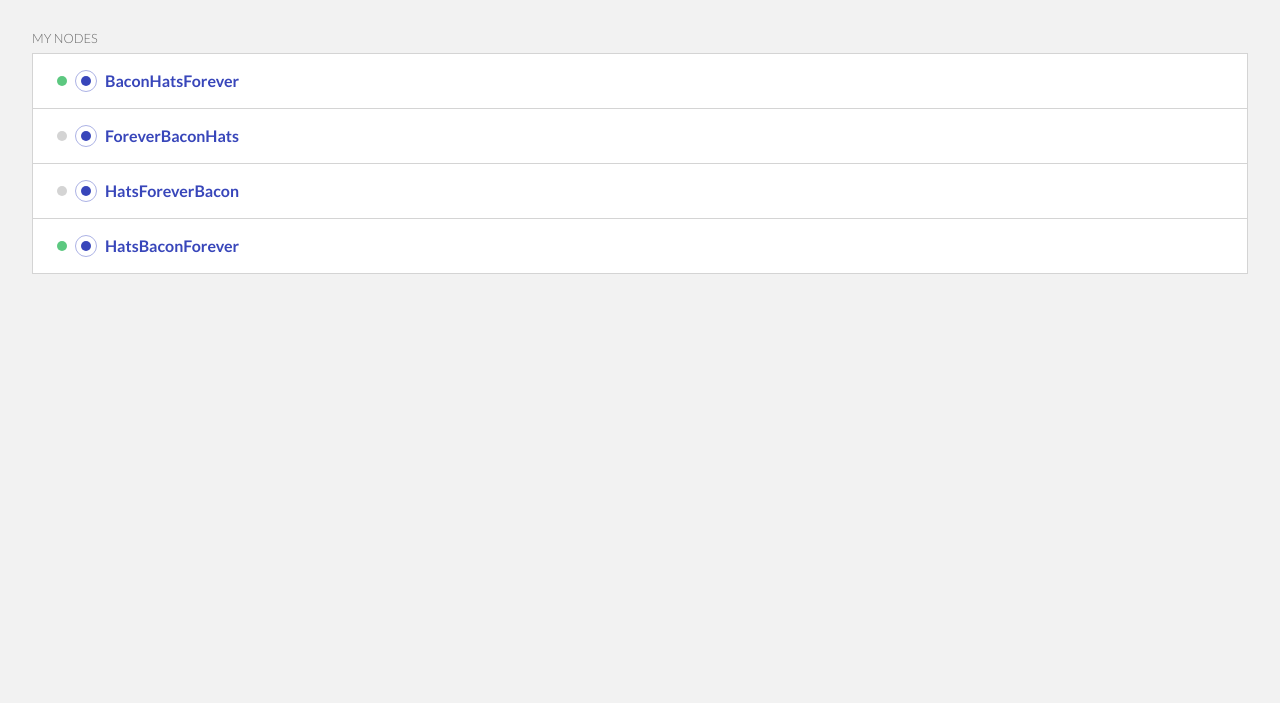
Test: Table Component › opens a table group on click
Click the element with class "table__group" showing "Active BaconHatsForever" at point(640, 81), box [32,53,1248,109]
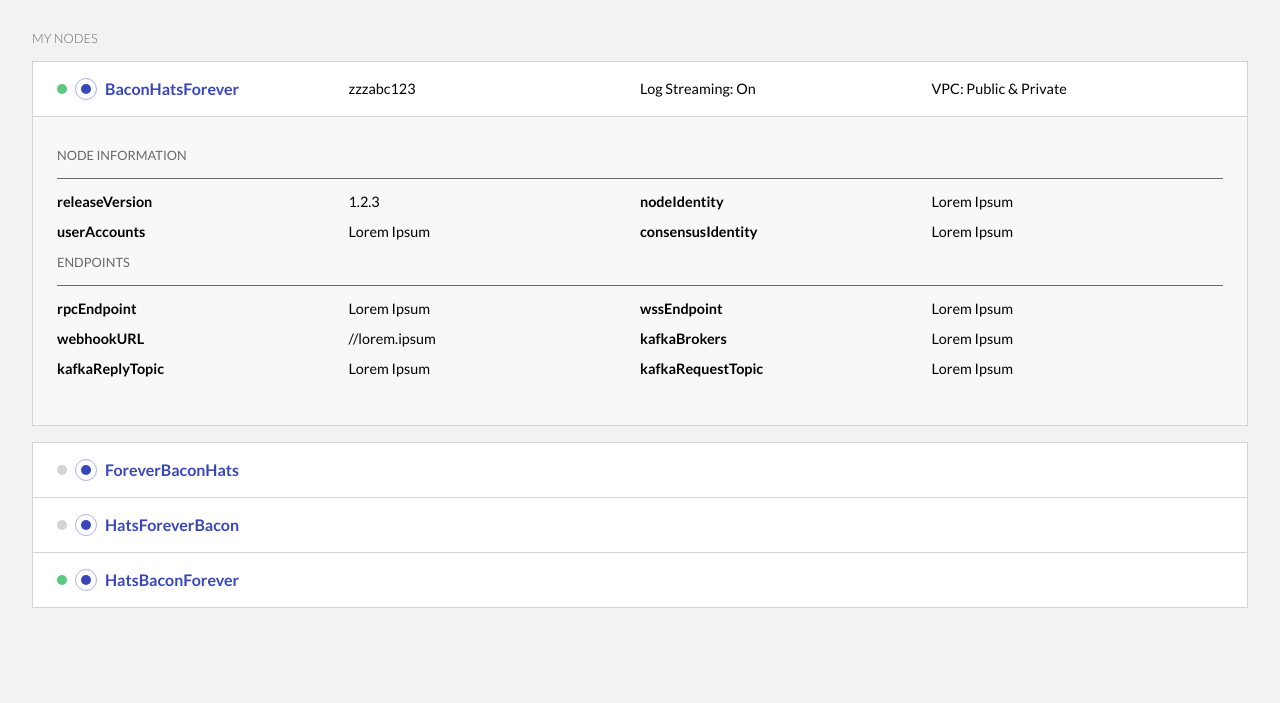
Expected: the element with class "table__group--active" is shown, [32,61,1248,426]
